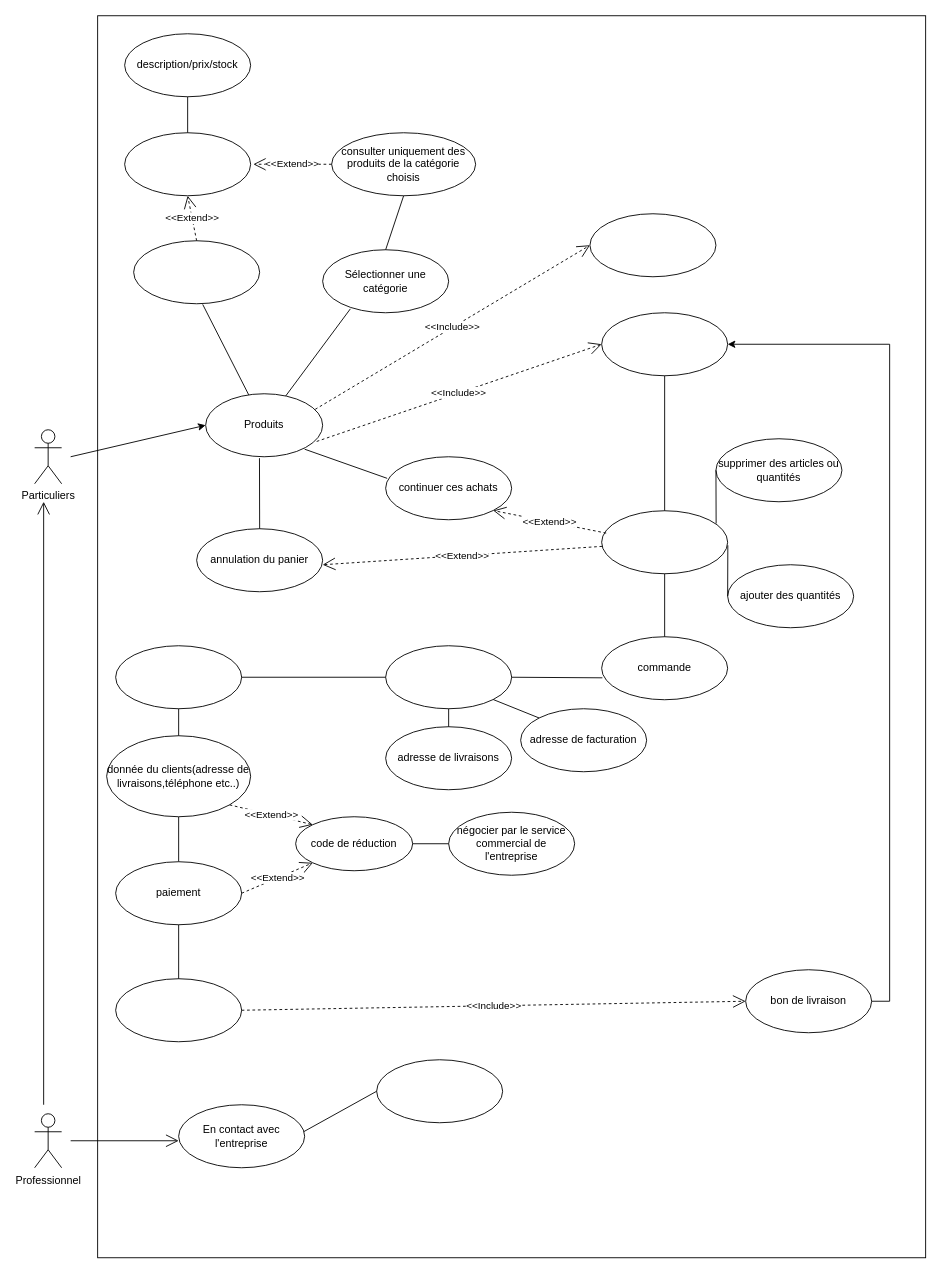
Some shapes in this 941 by 1274 pixel diagram are drawn without their labels. The centre of each missing label's shape, as x and y in pixels:
"compte client" belongs at (664,344).
"consulter l'ensemble des produits" belongs at (196,272).
"détail du produit" belongs at (187,164).
"paiement en différé" belongs at (439,1091).
"Panier" belongs at (664,542).
"s'inscrire" belongs at (652,245).
"validation de la commande" belongs at (178,677).
"validation du paiement" belongs at (178,1010).
"vérification de la commande" belongs at (448,677).
